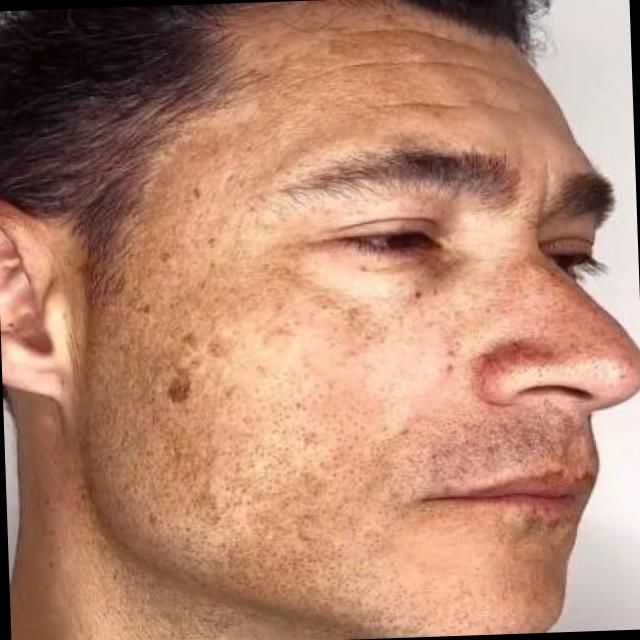melasma: (92, 197, 481, 587), (139, 0, 426, 217), (451, 237, 625, 386)
